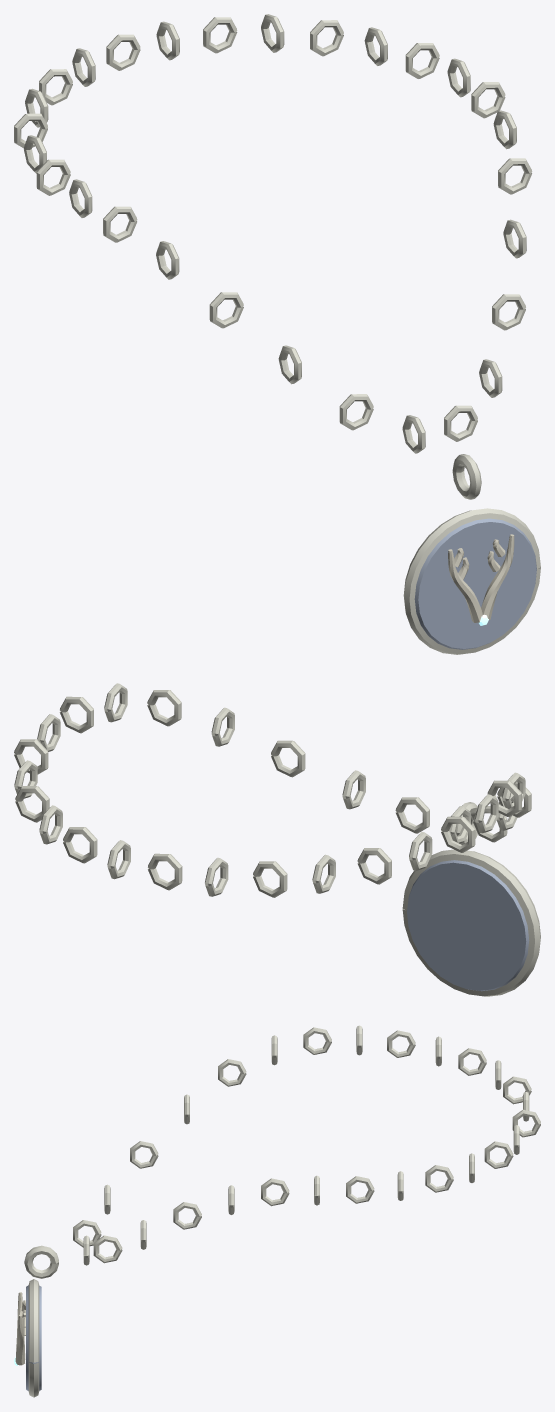
The model's file is boss_pale_requiem_accessory_3.glb.
3 views of the same model, one above another, from view 1: azimuth 30°, elevation 25°; view 2: azimuth 150°, elevation 25°; view 3: azimuth 270°, elevation 25° (orthographic). The views are drawn at different scales.
Parts seen in each view (by area): view 1: boss_pale_requiem_accessory_3; view 2: boss_pale_requiem_accessory_3; view 3: boss_pale_requiem_accessory_3.
Part boxes in pixels (bbox=[...]): boss_pale_requiem_accessory_3: bbox=[14, 14, 540, 654]; boss_pale_requiem_accessory_3: bbox=[14, 683, 540, 996]; boss_pale_requiem_accessory_3: bbox=[14, 1025, 540, 1397].
Bounding box in the file's own units: 0.3419 × 0.2865 × 0.471.
